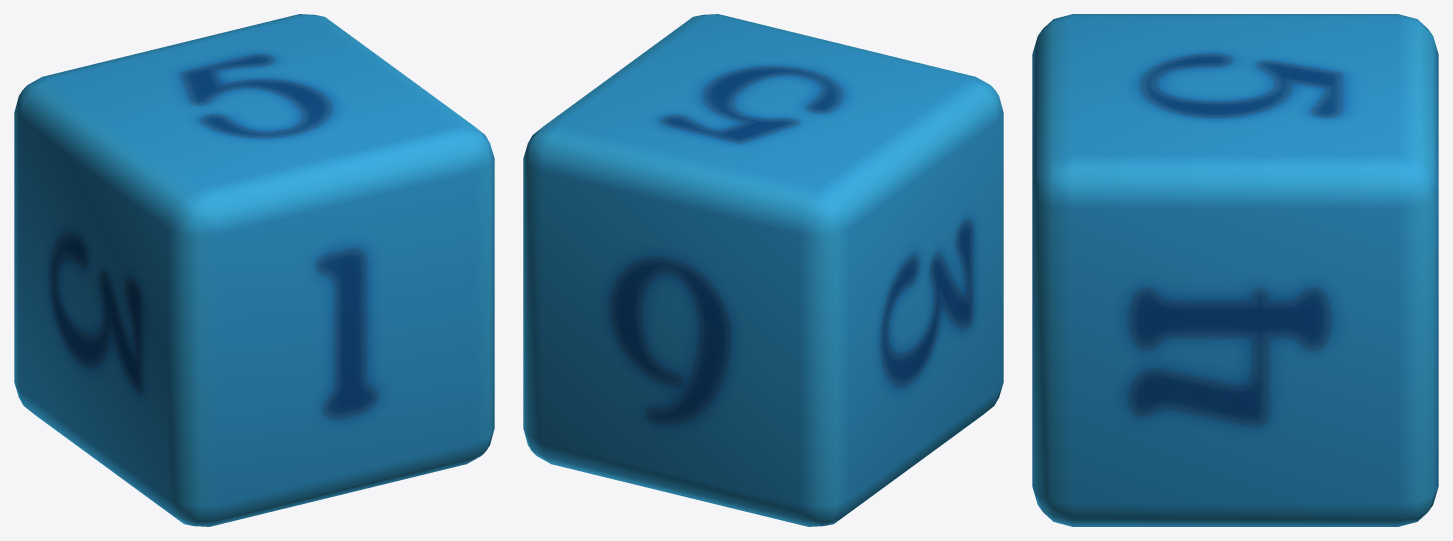
The model's file is D6_C_blue.glb.
3 views of the same model, side by side, from view 1: azimuth 30°, elevation 25°; view 2: azimuth 150°, elevation 25°; view 3: azimuth 270°, elevation 25° (orthographic). The views are drawn at different scales.
Visible parts, largest first — view 1: D6_C_blue; view 2: D6_C_blue; view 3: D6_C_blue.
Boxes of the visible parts, <box> form: D6_C_blue: <box>14,14,494,526</box>; D6_C_blue: <box>523,14,1003,526</box>; D6_C_blue: <box>1032,14,1438,526</box>.
Size of the model in its own units: 0.75 by 0.75 by 0.75.
1 material, 1 textured.
